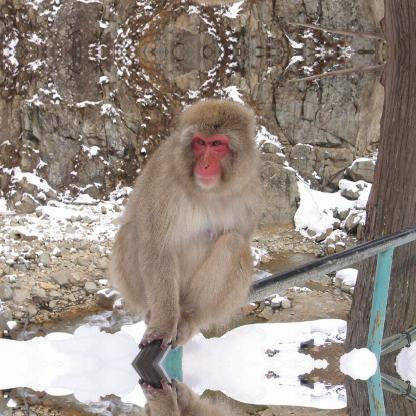Monkey: (112, 101, 262, 363)
